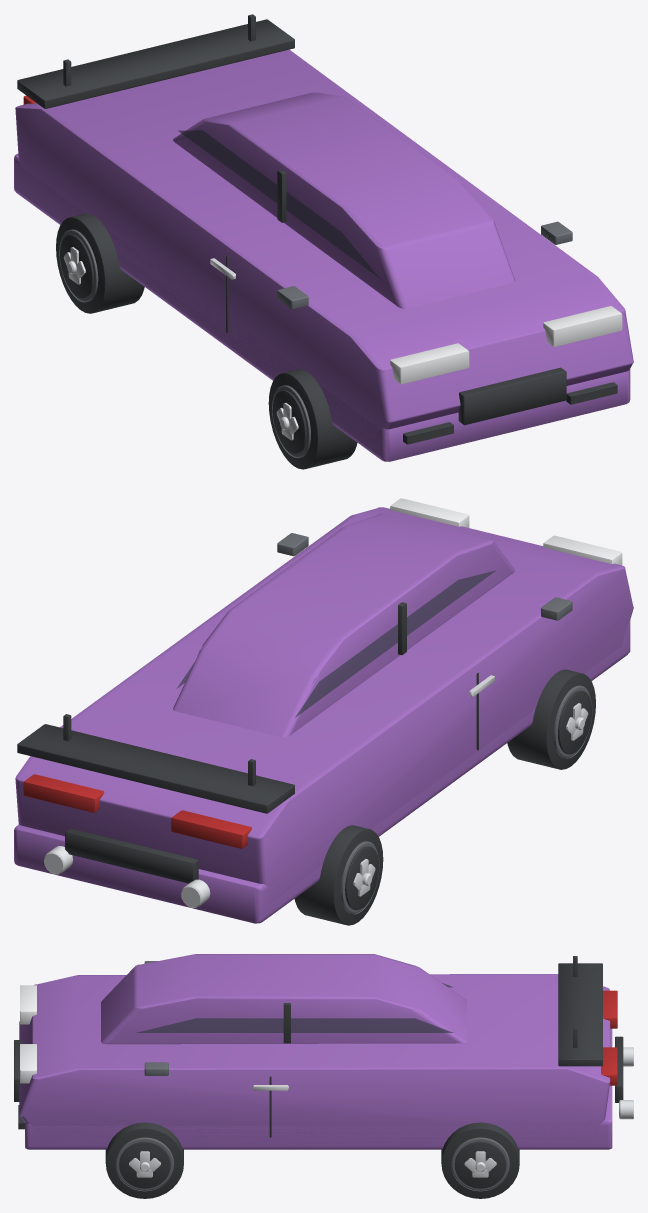
File: nightfall-tuner.glb
The picture shows the model from 3 angles, top to bottom: view 1: azimuth 30°, elevation 25°; view 2: azimuth 150°, elevation 25°; view 3: azimuth 270°, elevation 25°; orthographic projection. The views are drawn at different scales.
Parts seen in each view (by area): view 1: paint, trim, head, glass, accent, rim; view 2: paint, trim, tail, glass, rim, head, accent; view 3: paint, trim, glass, rim, accent, head, tail.
Part boxes in pixels (x1,y1,x2,y2): paint: (14, 49, 633, 461); trim: (17, 14, 617, 469); head: (390, 306, 622, 384); glass: (178, 130, 378, 277); accent: (59, 221, 572, 458); rim: (63, 247, 298, 440); paint: (14, 507, 633, 923); trim: (17, 602, 595, 925); tail: (23, 774, 251, 848); glass: (177, 570, 495, 717); rim: (44, 675, 588, 907); head: (390, 498, 622, 565); accent: (277, 533, 592, 914); paint: (19, 954, 612, 1149); trim: (14, 956, 623, 1198); glass: (136, 983, 453, 1032); rim: (129, 1047, 633, 1177); accent: (115, 961, 509, 1191); head: (20, 985, 36, 1083); tail: (601, 990, 617, 1085).
Size of the model in its own units: 2.03 by 1.39 by 4.59.
